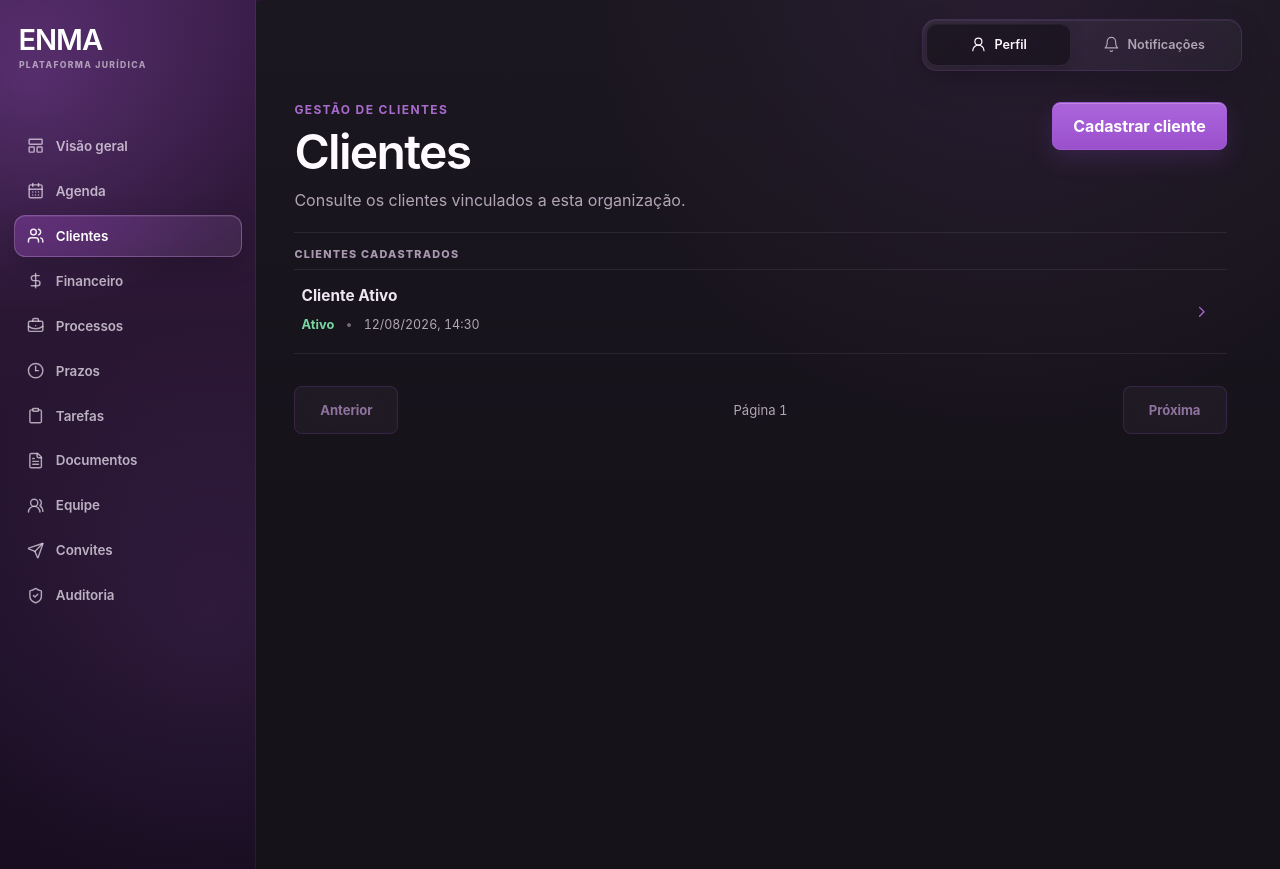
Test: Clients D1 flow › ClientCreate_StaleAdministratorRoleGetsForbidden_ShowsPermissionWithoutInsertOrRetry
This screenshot has width=1280, height=869.
Check: the text "Cliente Ativo" is shown, box [302, 286, 398, 305]
Click the button "Cadastrar cliente". click: click(1139, 126)
box: [1052, 102, 1227, 150]
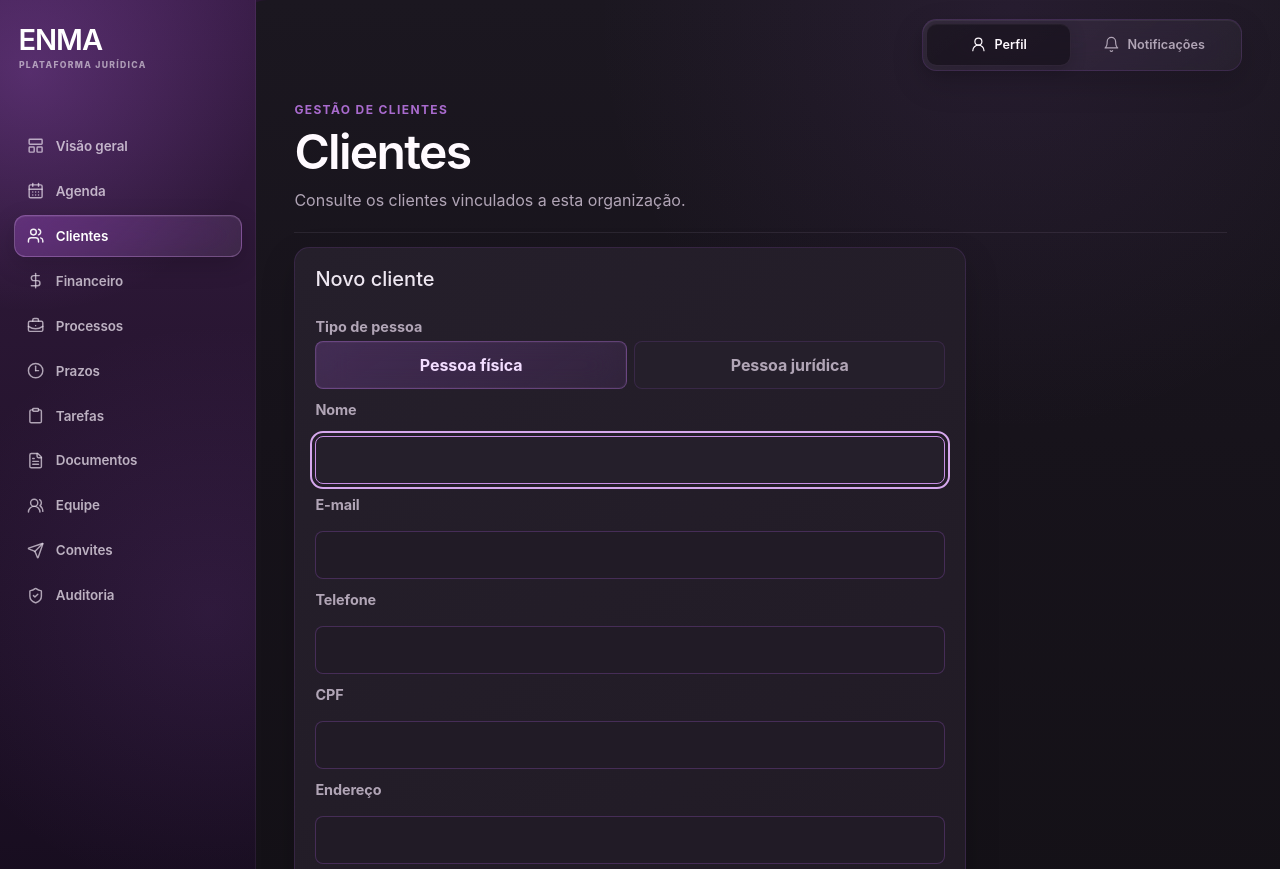
Type "Cliente Negado" into the field labelled "Nome". click: (630, 460)
box: [315, 436, 945, 484]
(page scrolled)
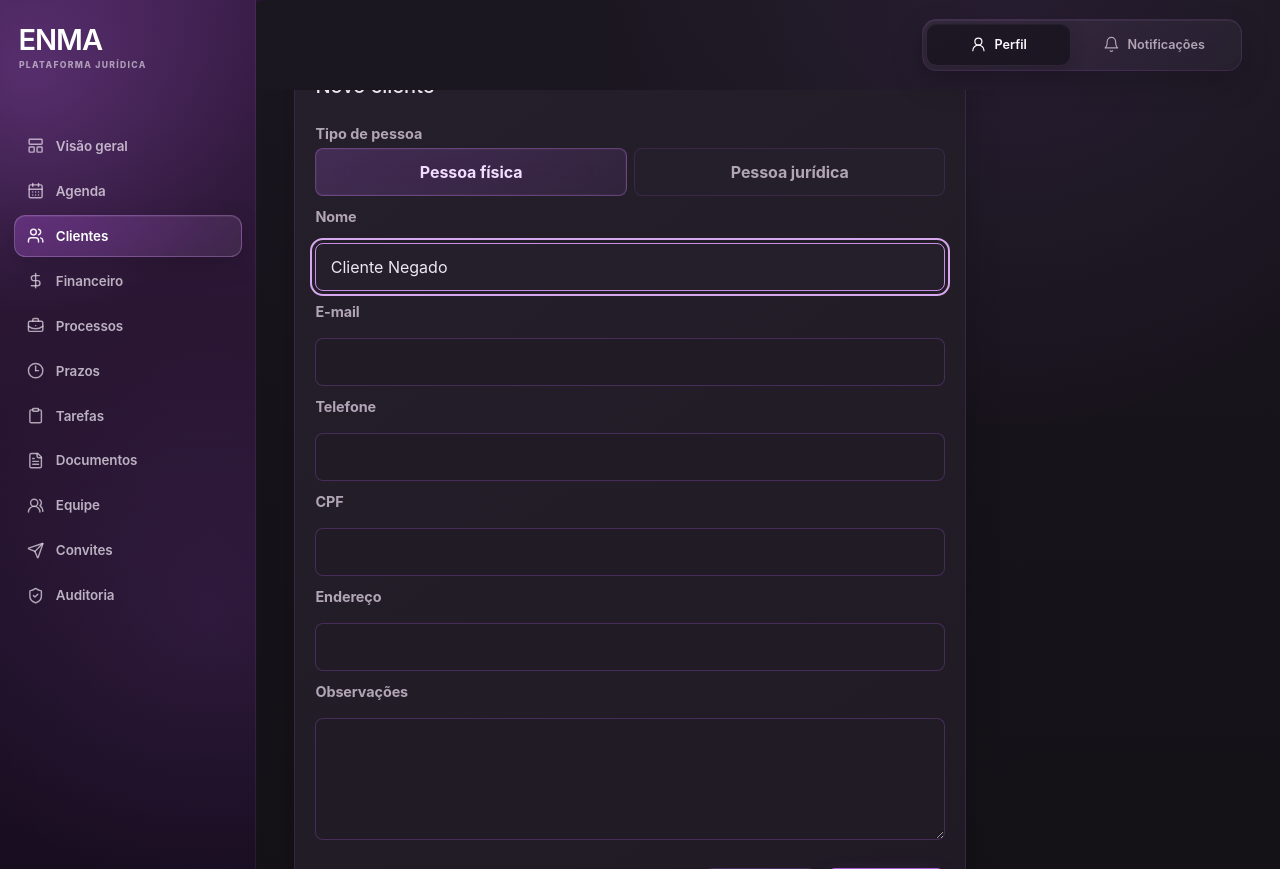
Submit the form named "Cadastrar"
(page scrolled)
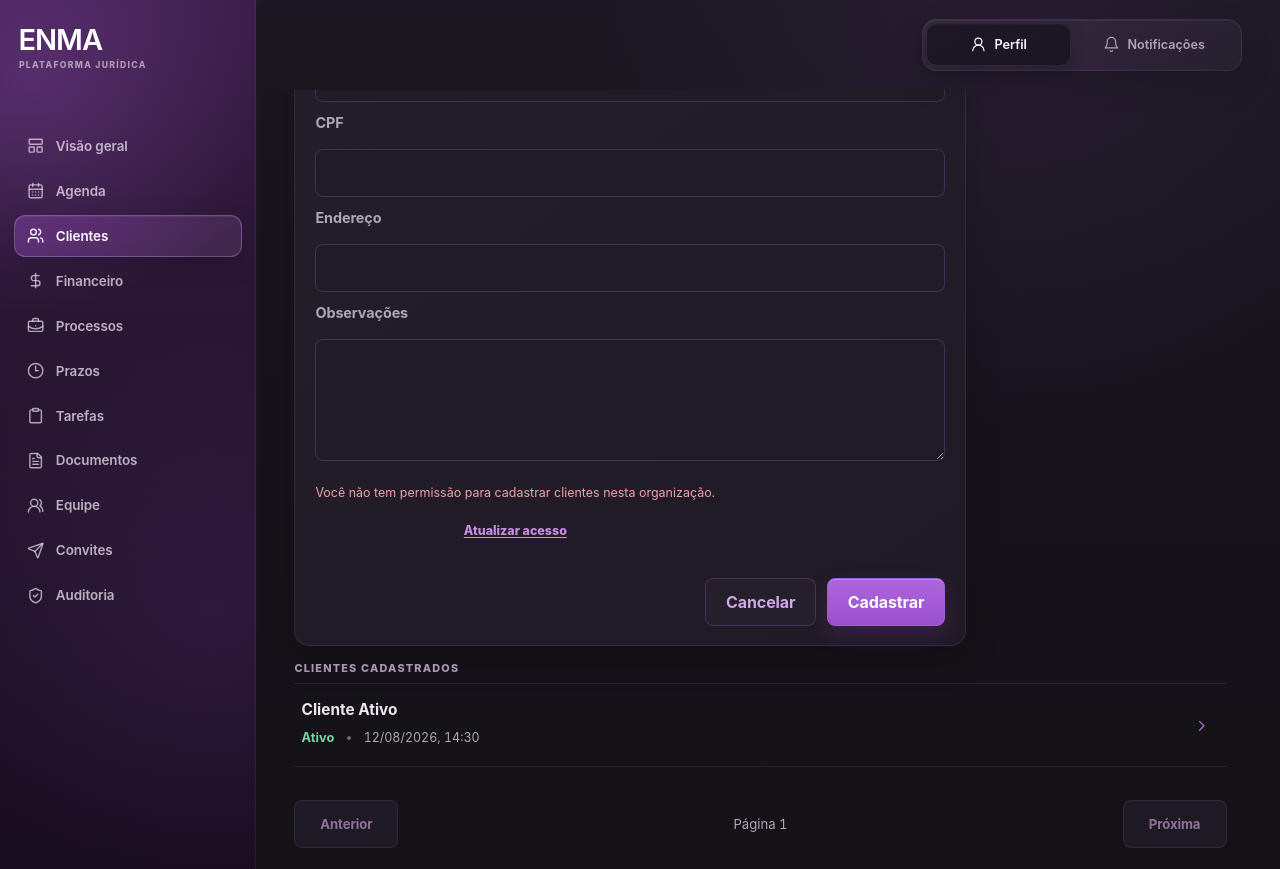
Check: the button "Cadastrar" is enabled, box [827, 578, 945, 626]
Check: the message reads "Você não tem permissão para cadastrar clientes nesta organização.", box [315, 485, 715, 500]
Check: the button "Atualizar acesso" is shown, box [315, 510, 715, 550]
